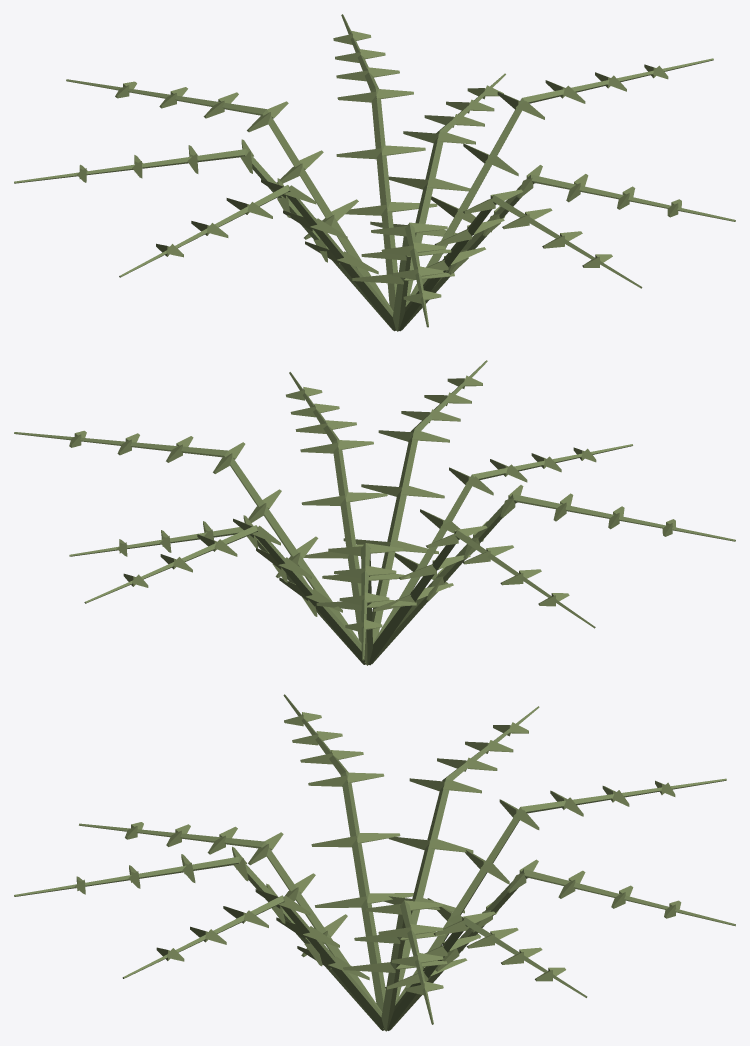
File: FernClump.fbx
3 views of the same model, one above another, from view 1: azimuth 30°, elevation 25°; view 2: azimuth 150°, elevation 25°; view 3: azimuth 270°, elevation 25° (orthographic). The views are drawn at different scales.
Visible parts, largest first — view 1: Prop_FernClump; view 2: Prop_FernClump; view 3: Prop_FernClump.
Part boxes in pixels (x1=…): Prop_FernClump: x1=14, y1=14, x2=735, y2=331; Prop_FernClump: x1=14, y1=360, x2=735, y2=665; Prop_FernClump: x1=14, y1=694, x2=735, y2=1031.
Bounding box in the file's own units: 1.28 × 0.3539 × 1.18.
